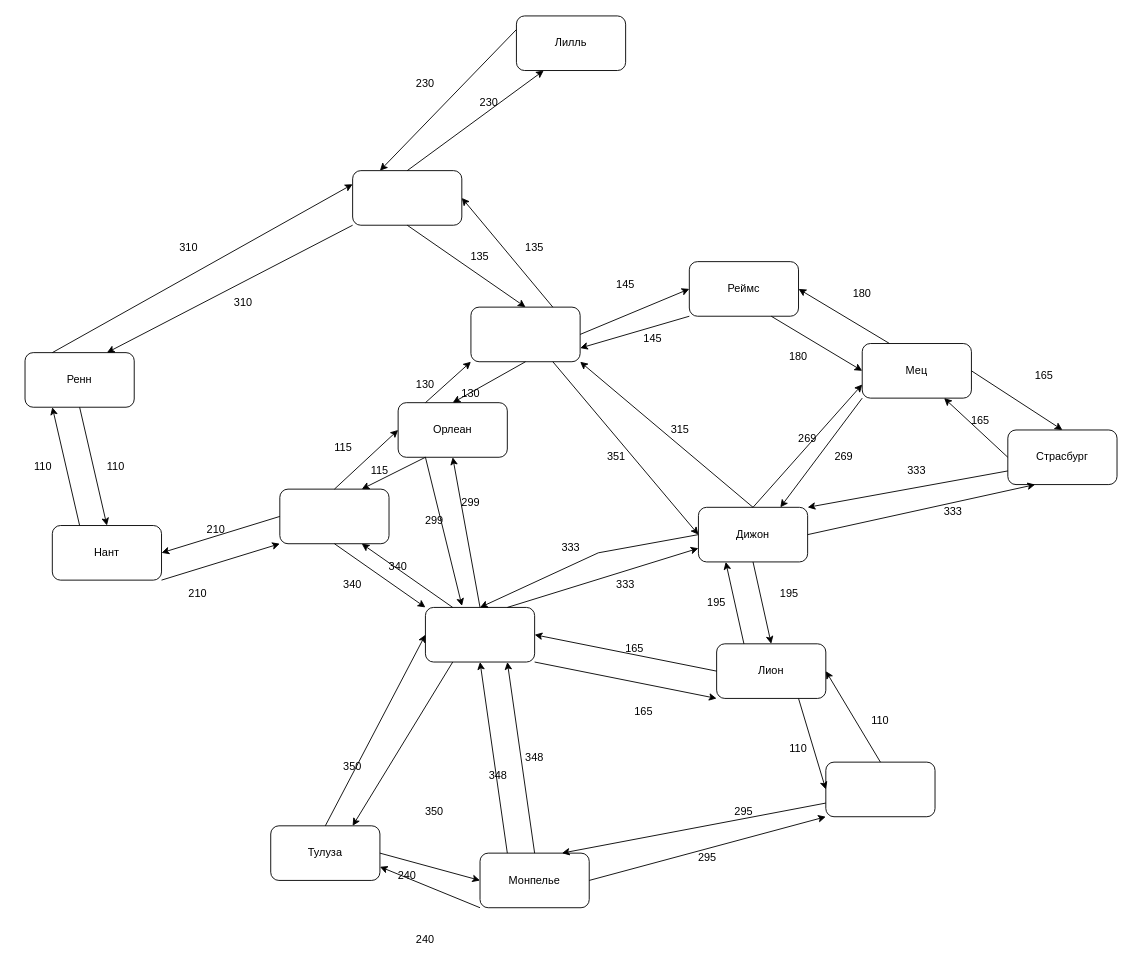
The diagram is 1133 pixels wide and 969 high, and some of its shapes have lost their labels. Here are the shapes that lost their labels. From the top down, the centre of each, then its label:
point 407,197: Руан
point 525,334: Париж
point 334,516: Тур
point 480,634: Клермон-Ферран
point 880,789: Гренобль
